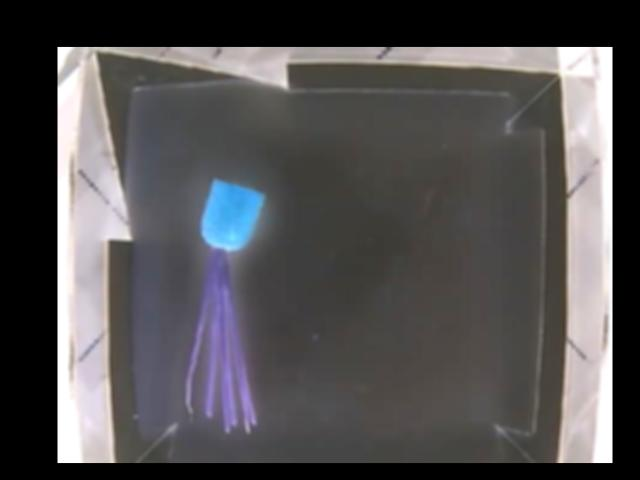Carrot: (197, 176, 264, 300)
